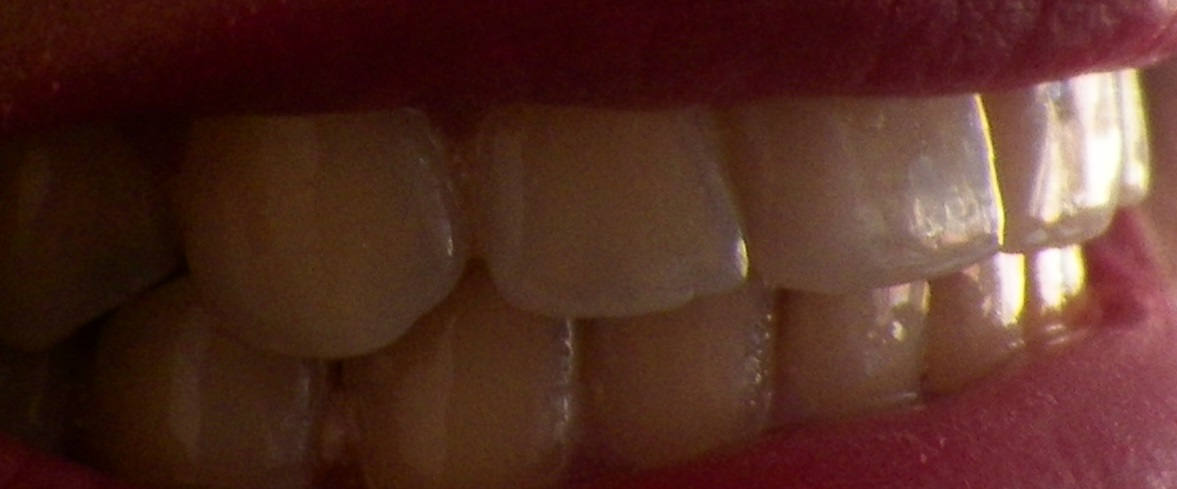boca: (2, 63, 1158, 468)
